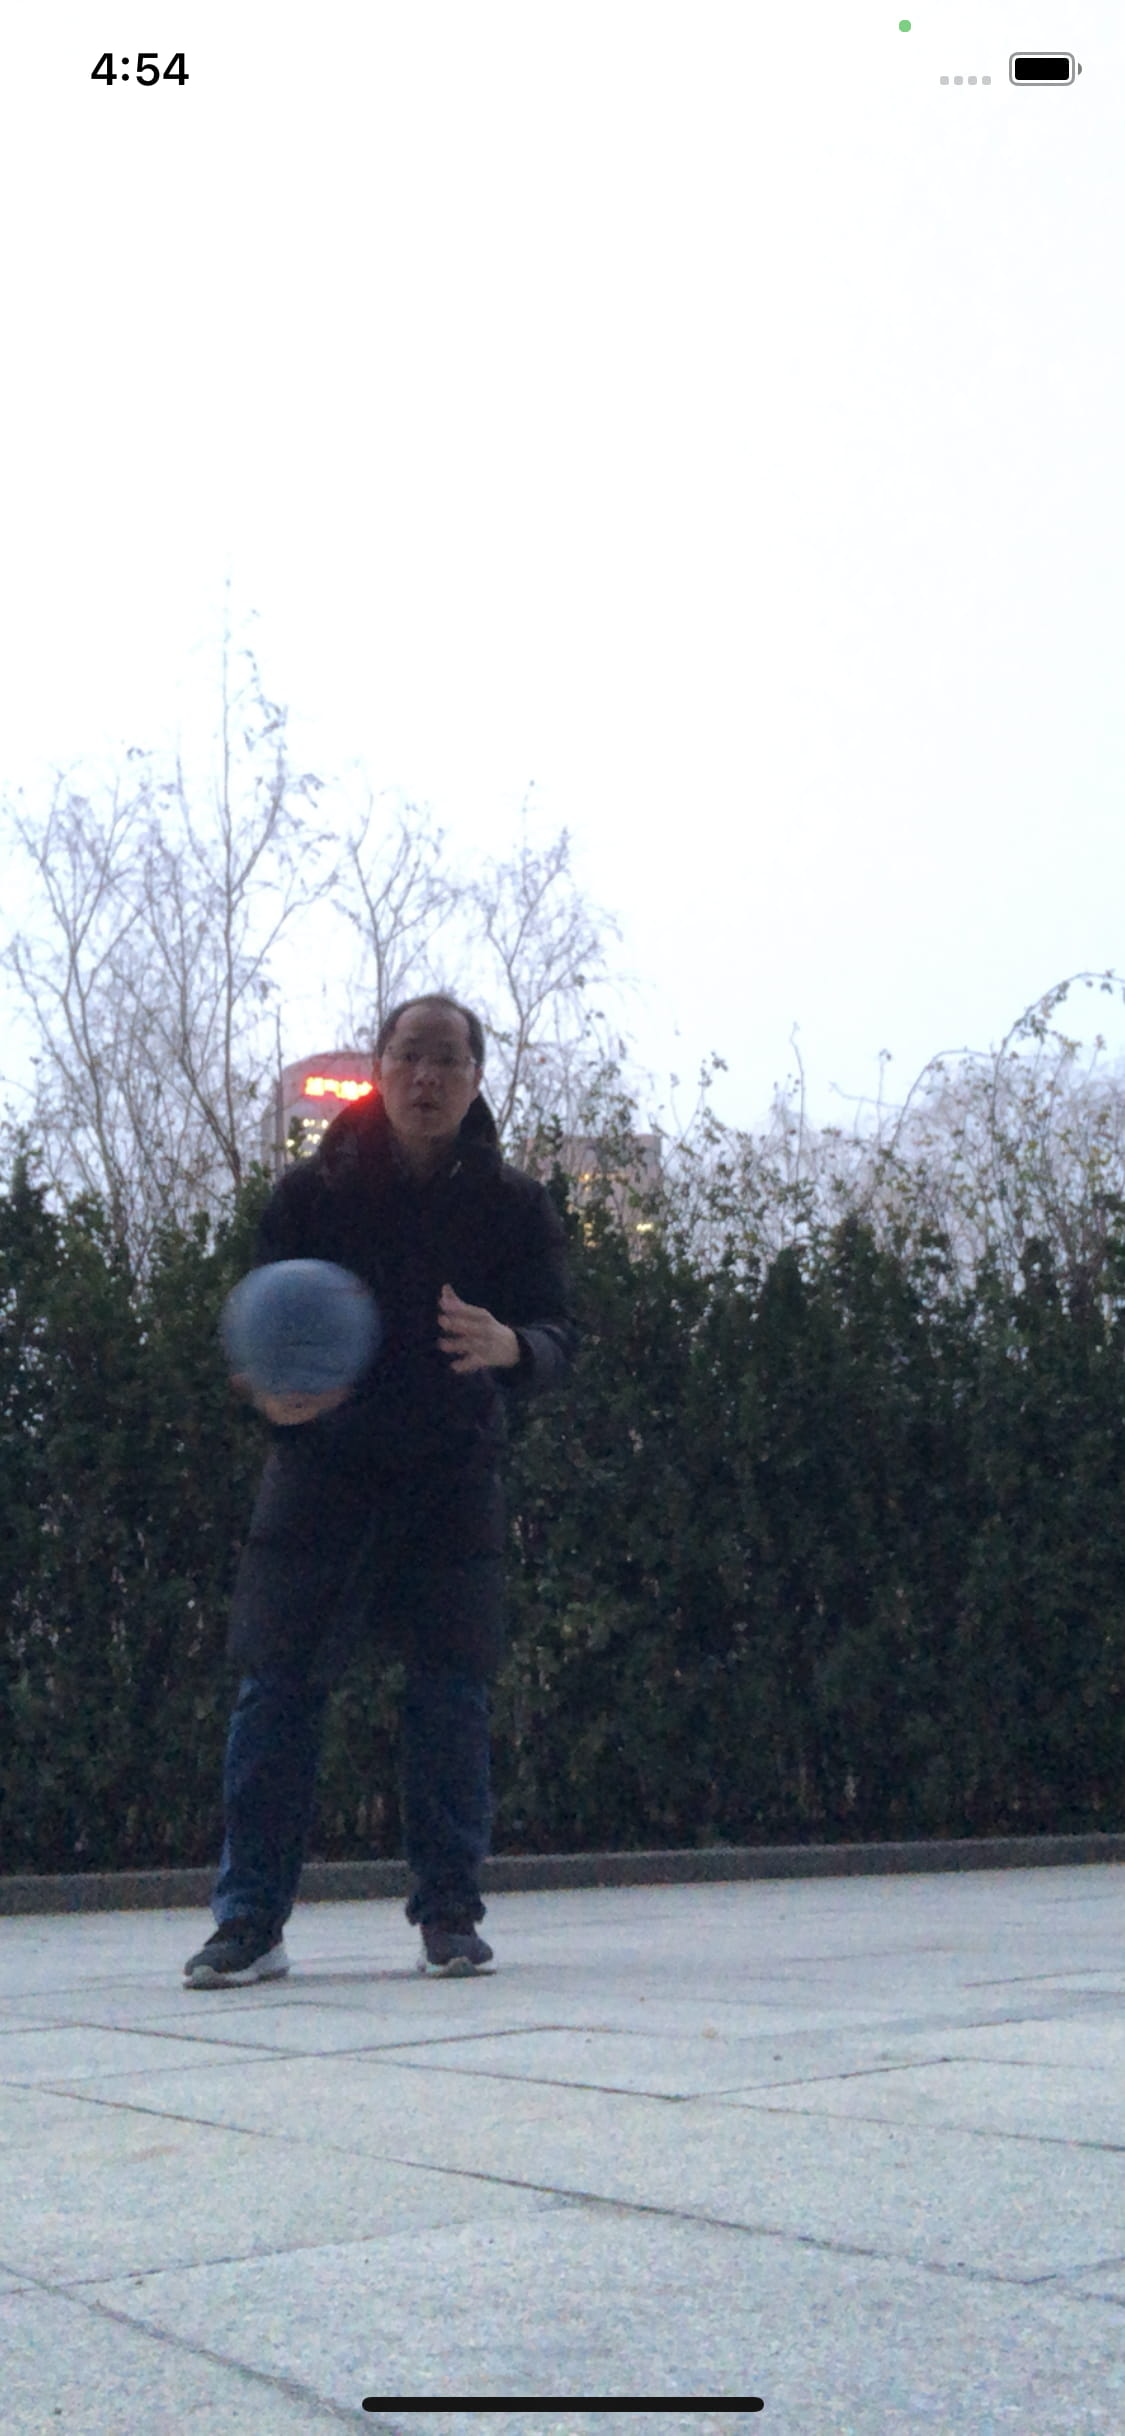ball: (227, 1258, 374, 1404)
